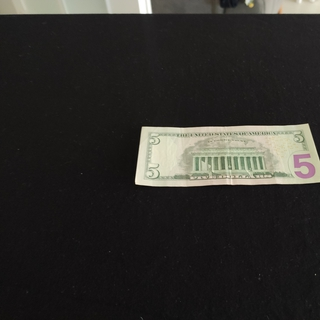5USDBack: (134, 123, 320, 187)
